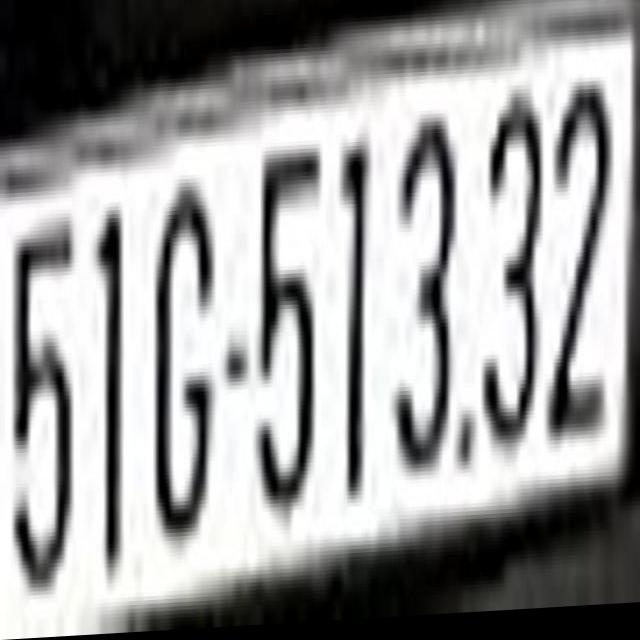1: (332, 122, 367, 532), (90, 212, 127, 593)
2: (546, 49, 616, 471)
3: (481, 83, 544, 494), (396, 99, 453, 498)
5: (256, 109, 320, 535), (10, 213, 79, 601)
G: (152, 168, 212, 579)
